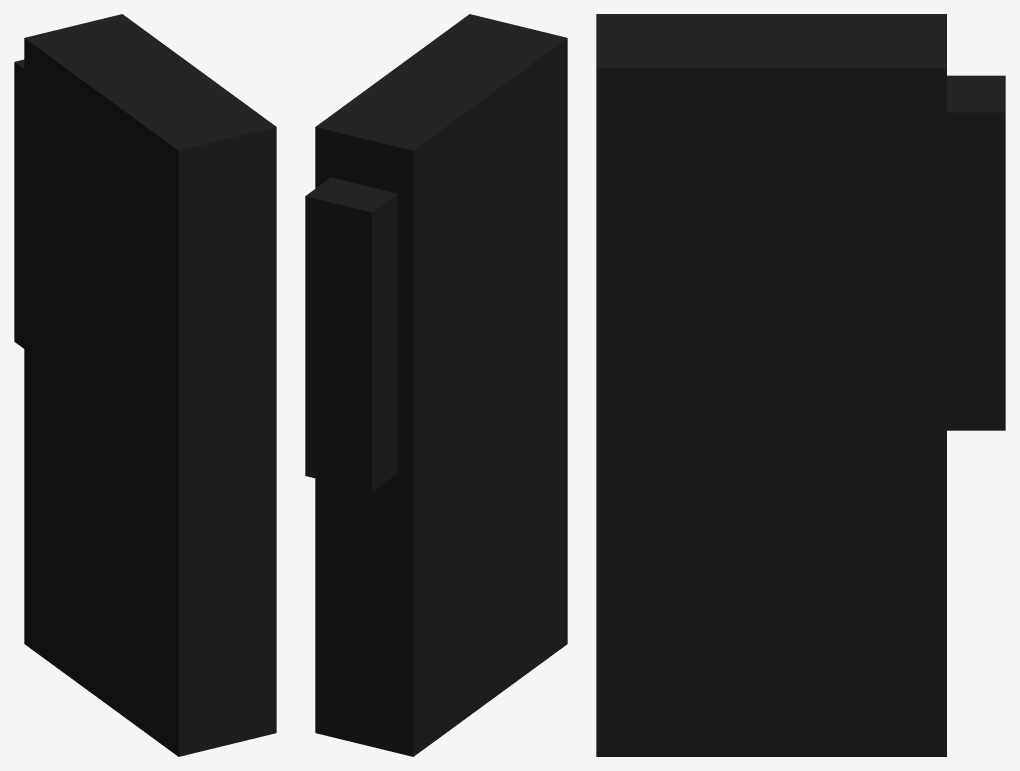
The model's file is Stock_AR_Precision.fbx.
3 renders of one model, left to right at view 1: azimuth 30°, elevation 25°; view 2: azimuth 150°, elevation 25°; view 3: azimuth 270°, elevation 25°, orthographic. The views are drawn at different scales.
Visible parts, largest first — view 1: prims; view 2: prims; view 3: prims.
Part boxes in pixels (x1=…): prims: x1=14, y1=14, x2=276, y2=756; prims: x1=305, y1=14, x2=567, y2=756; prims: x1=596, y1=14, x2=1005, y2=756.
Size of the model in its own units: 0.0264 by 0.156 by 0.084.
